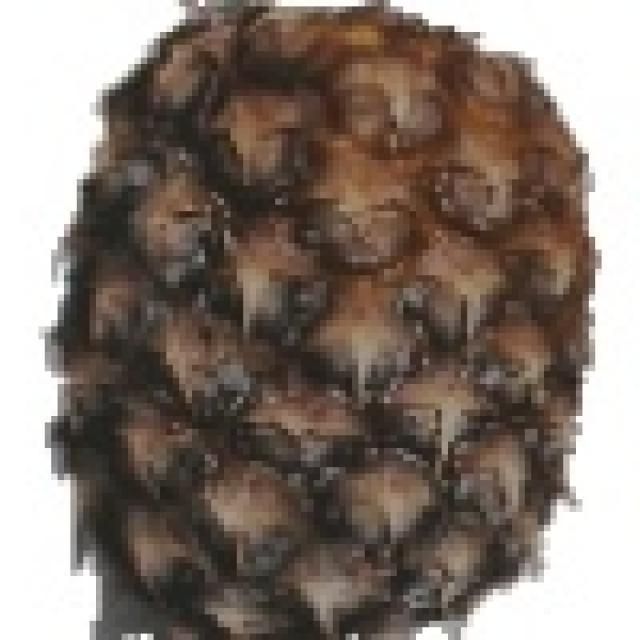pineapple: (50, 0, 595, 640)
